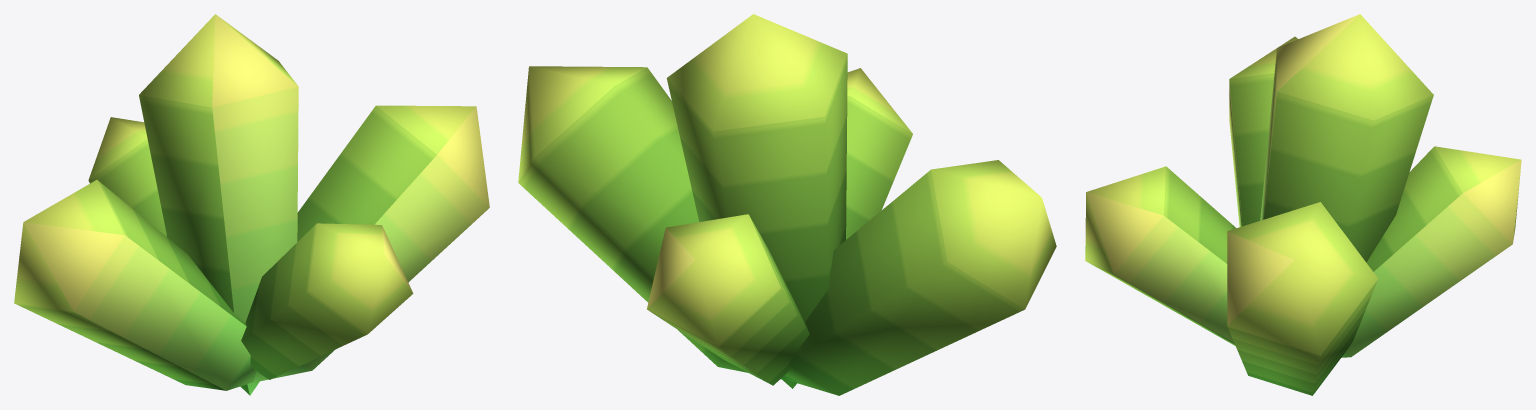
File: plant_003.fbx
The picture shows the model from 3 angles, left to right: view 1: azimuth 30°, elevation 25°; view 2: azimuth 150°, elevation 25°; view 3: azimuth 270°, elevation 25°; orthographic projection. The views are drawn at different scales.
Visible parts, largest first — view 1: plant.003; view 2: plant.003; view 3: plant.003.
Part boxes in pixels (bbox=[...]): plant.003: bbox=[14, 14, 489, 395]; plant.003: bbox=[518, 14, 1056, 395]; plant.003: bbox=[1085, 14, 1521, 395].
Size of the model in its own units: 8.97 by 6.75 by 7.21.
